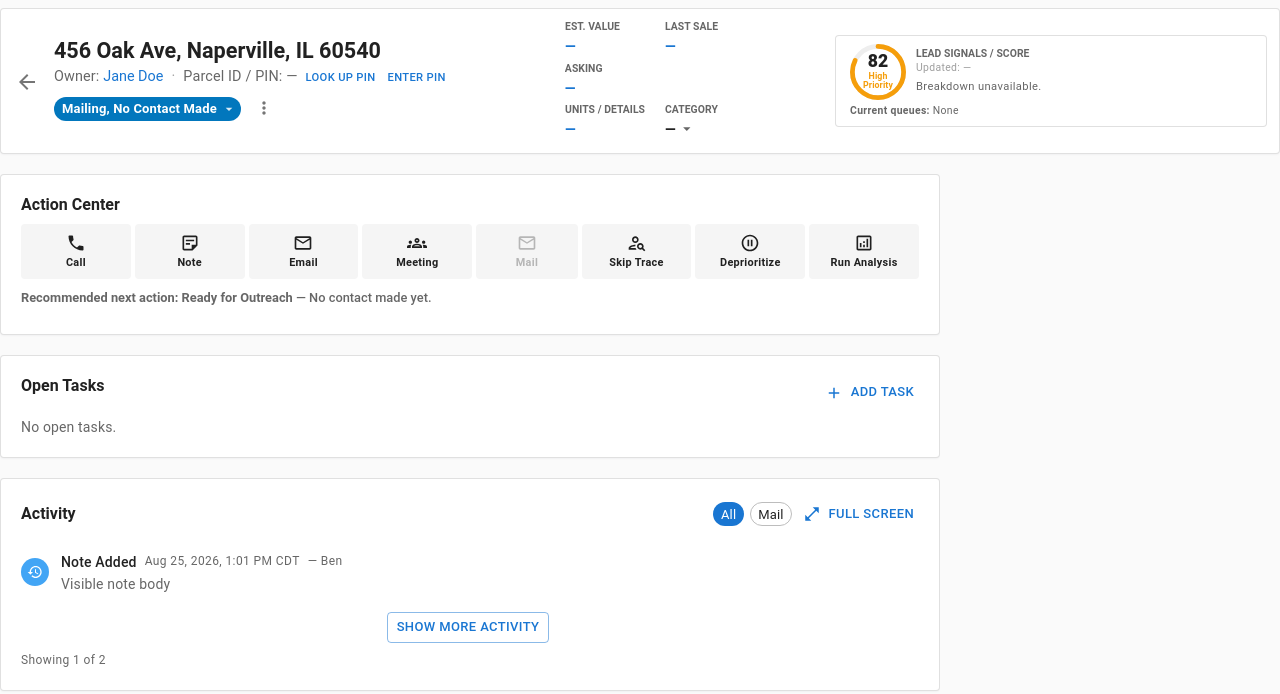
Test: UnifiedLeadCommandCenter — structural presence › hides recommended_action_changed rows loaded from older default activity pages
The image size is (1280, 694).
expect the text with test id "entry-summary-10" reads "Visible note body": met, box 61,576 -> 170,592
Click the button with test id "load-more-btn" at (468, 627), box 387,612 -> 549,643
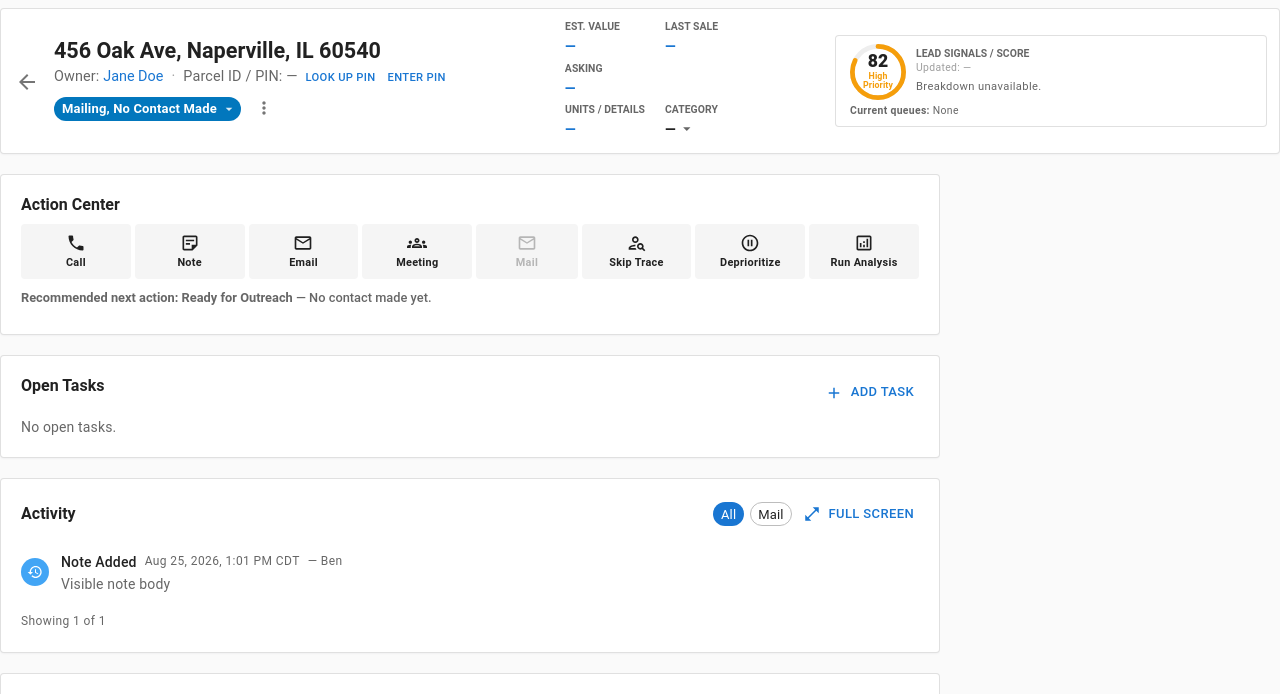
expect the button with test id "load-more-btn" is gone: met
